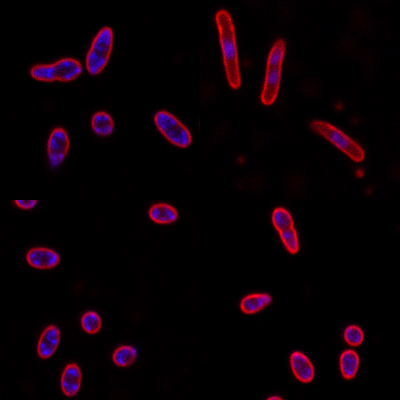MP265: (59, 360, 83, 399), (36, 324, 61, 360), (25, 246, 61, 270), (148, 203, 178, 226), (80, 310, 102, 335)
Mecillinam: (153, 108, 192, 150), (83, 25, 114, 77), (28, 56, 83, 83), (270, 205, 300, 254), (289, 350, 315, 383), (239, 292, 272, 314), (339, 348, 360, 381), (342, 323, 365, 347)
Nalidixate: (213, 9, 243, 89)
Oblique: (308, 120, 364, 161), (260, 37, 286, 105), (44, 126, 71, 168), (90, 110, 115, 136), (110, 345, 138, 367)
Vesicle: (233, 152, 247, 166), (331, 99, 345, 112), (352, 167, 365, 180)
